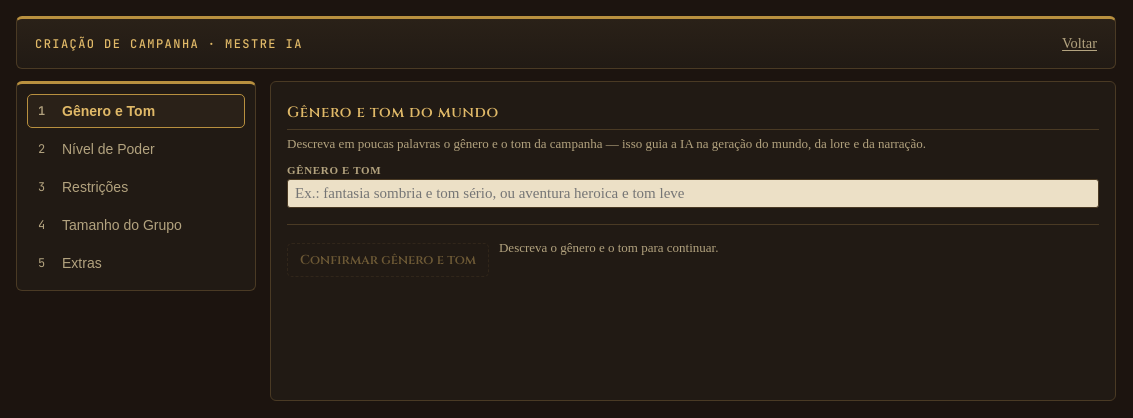
Test: wizard de criação de mundo por IA › navega livremente entre etapas pela barra lateral, preservando o que já foi preenchido
Type "Fantasia sombria" into the field labelled "Gênero e tom" at (693, 194), box left=287, top=179, right=1099, bottom=208
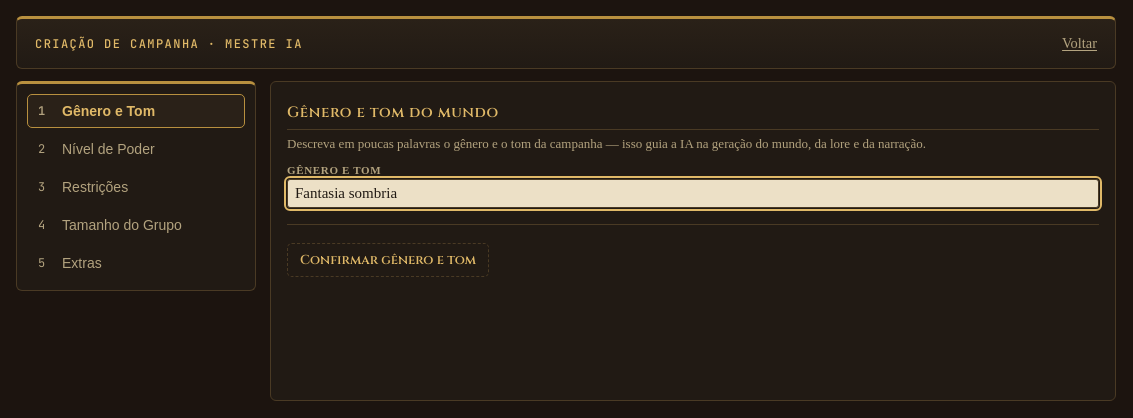
Click the button "4 Tamanho do Grupo" at (136, 225), box left=27, top=208, right=245, bottom=242
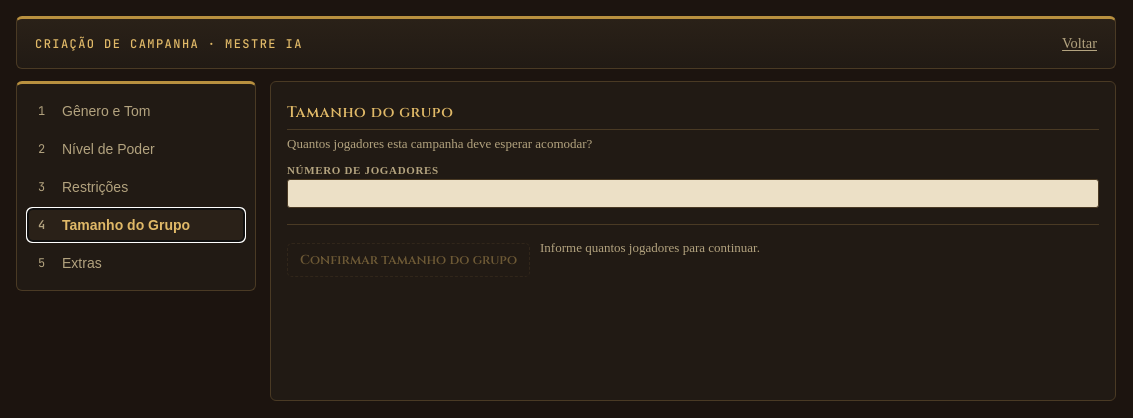
Type "4" into the number field labelled "Número de jogadores" at (693, 194), box left=287, top=179, right=1099, bottom=208
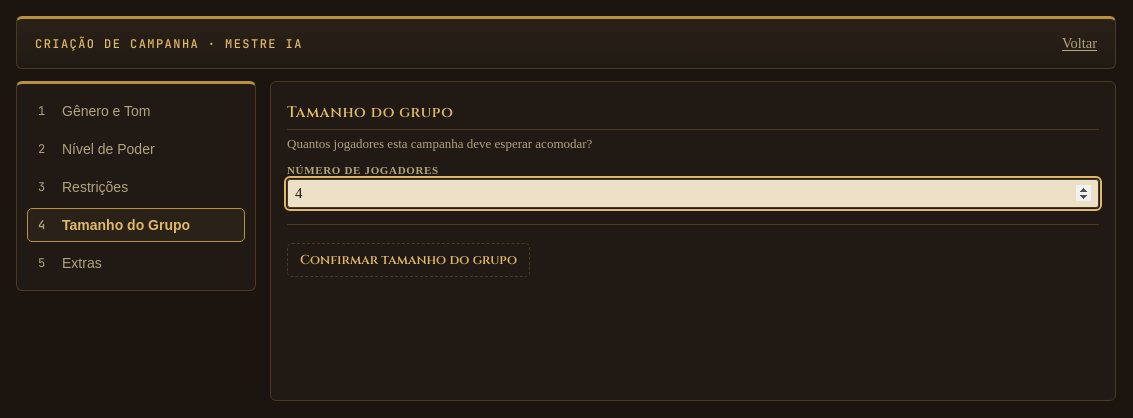
Click the button "1 Gênero e Tom" at (136, 111), box left=27, top=94, right=245, bottom=128
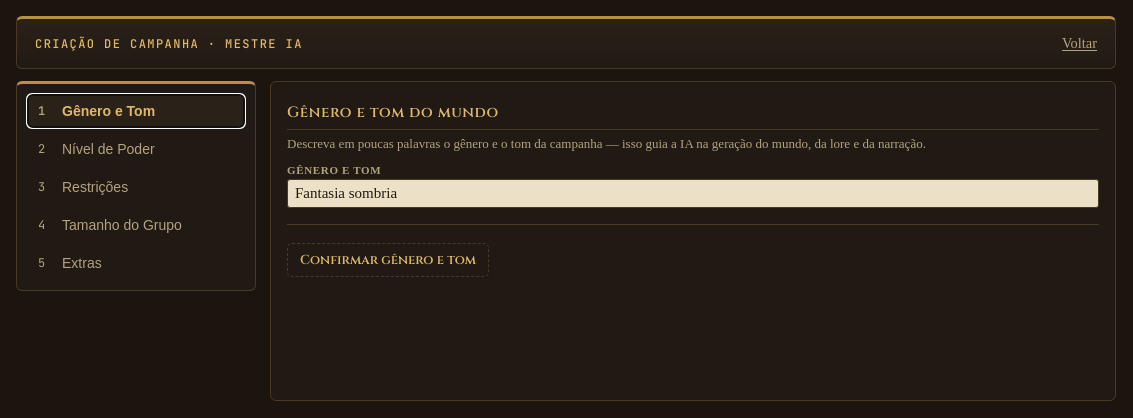
Check: the field labelled "Gênero e tom" holds "Fantasia sombria", box left=287, top=179, right=1099, bottom=208
Click the button "4 Tamanho do Grupo" at (136, 225), box left=27, top=208, right=245, bottom=242
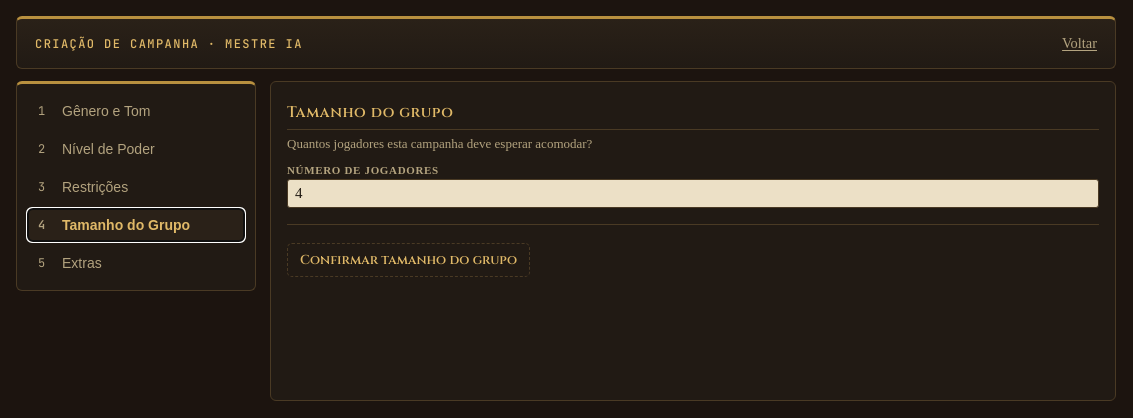
Check: the number field labelled "Número de jogadores" holds "4", box left=287, top=179, right=1099, bottom=208
